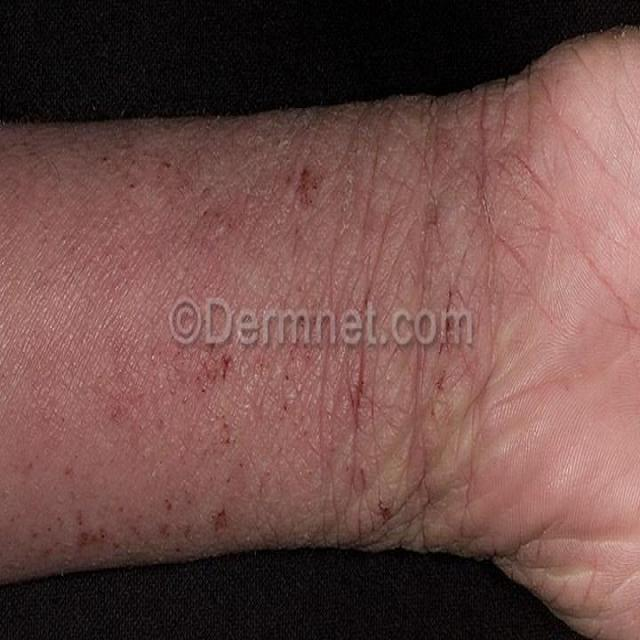liquenificacion 1: (283, 24, 639, 639)
